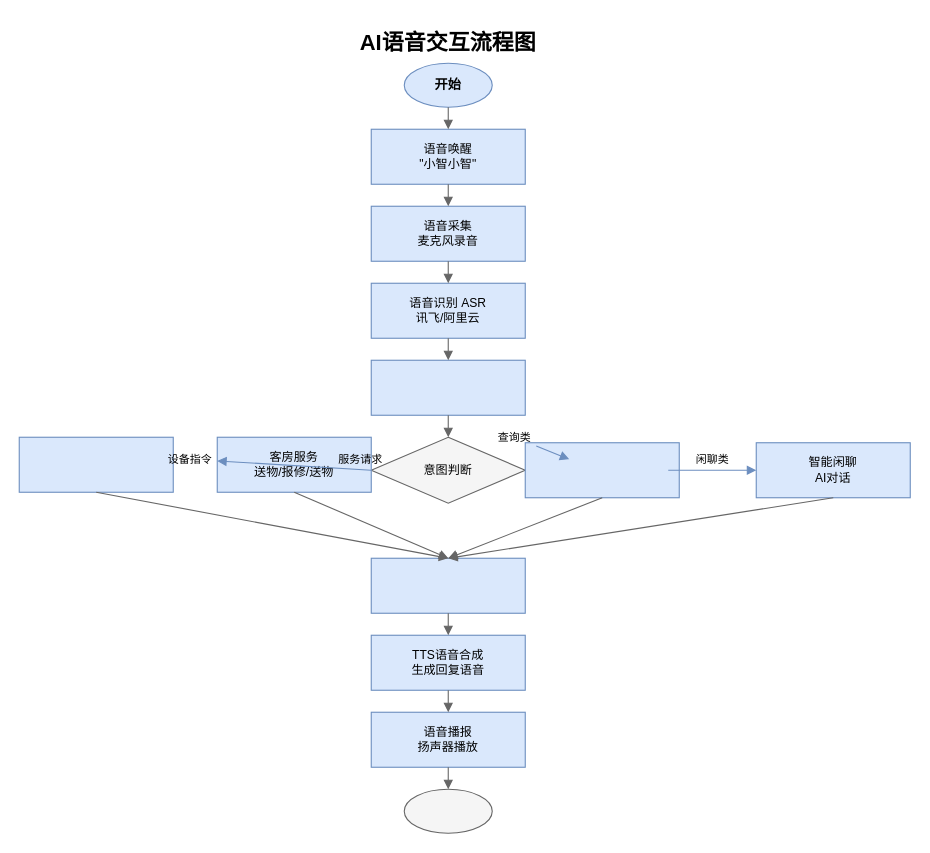
Some shapes in this 930 by 853 pixel diagram are drawn without their labels. Here are the shapes that lost their labels. From the top down, the box of each, then its label:
(370, 359, 525, 415): 语义理解 NLP 意图识别
(18, 436, 173, 492): 设备控制 灯光/空调/窗帘
(524, 442, 679, 498): 信息查询 天气/酒店服务
(370, 557, 525, 613): 执行操作 MQTT下发指令
(403, 788, 492, 833): 结束
